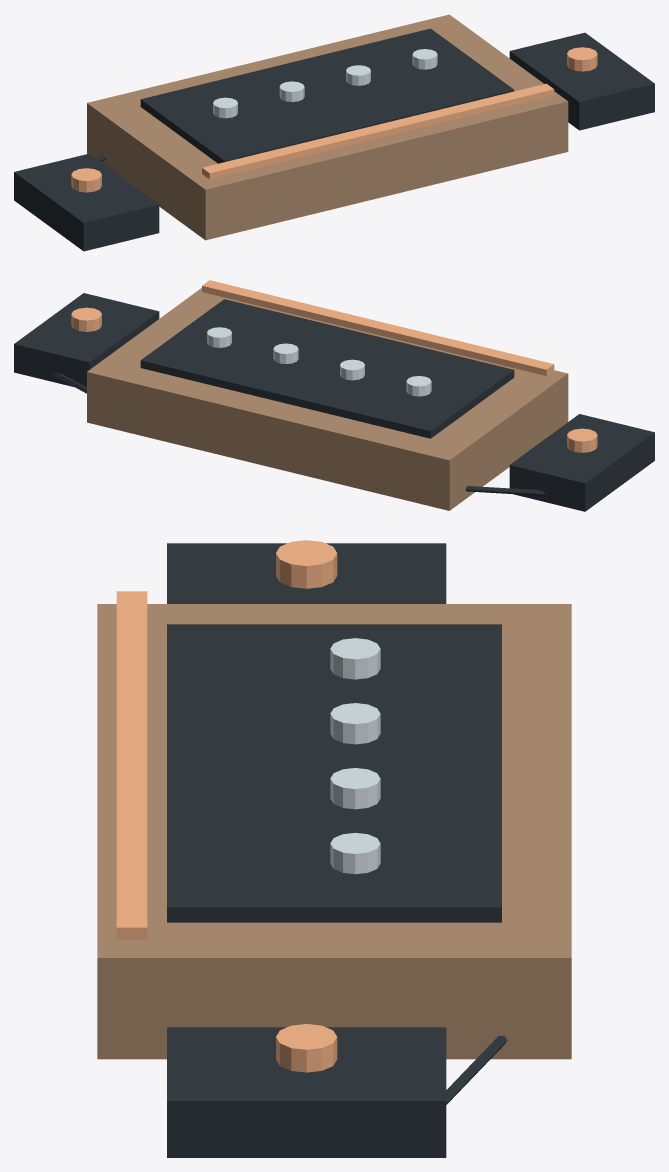
The model's file is early-console-lod0.glb.
3 renders of one model, top to bottom at view 1: azimuth 30°, elevation 25°; view 2: azimuth 150°, elevation 25°; view 3: azimuth 270°, elevation 25°, orthographic. The views are drawn at different scales.
Visible parts, largest first — view 1: console, top_panel, paddle_0, paddle_1, stripe, paddle_knob_1, paddle_knob_0, knob_3, knob_1, knob_2, knob_0; view 2: console, top_panel, paddle_0, paddle_1, stripe, paddle_knob_0, paddle_knob_1, paddle_cable_0, knob_0, knob_2, knob_3, knob_1; view 3: console, top_panel, paddle_1, paddle_0, stripe, paddle_knob_0, paddle_knob_1, knob_0, knob_1, knob_2, knob_3, paddle_cable_1.
Boxes of the visible parts, x1,y1,x2,y2 form: console: [87, 14, 568, 240]; top_panel: [140, 28, 514, 163]; paddle_0: [14, 153, 159, 251]; paddle_1: [509, 32, 654, 130]; stripe: [202, 83, 554, 179]; paddle_knob_1: [567, 47, 597, 71]; paddle_knob_0: [71, 168, 101, 192]; knob_3: [412, 49, 437, 69]; knob_1: [279, 81, 304, 101]; knob_2: [346, 65, 370, 85]; knob_0: [213, 97, 237, 118]; console: [87, 288, 568, 510]; top_panel: [140, 299, 514, 438]; paddle_0: [509, 414, 654, 511]; paddle_1: [14, 293, 159, 387]; stripe: [202, 280, 554, 375]; paddle_knob_0: [567, 428, 597, 452]; paddle_knob_1: [71, 307, 101, 331]; paddle_cable_0: [465, 486, 545, 495]; knob_0: [406, 376, 431, 396]; knob_2: [273, 343, 298, 363]; knob_3: [207, 327, 231, 347]; knob_1: [340, 359, 364, 380]; console: [97, 604, 571, 1059]; top_panel: [167, 624, 501, 922]; paddle_1: [167, 1027, 446, 1157]; paddle_0: [167, 543, 446, 603]; stripe: [116, 591, 147, 940]; paddle_knob_0: [276, 540, 337, 588]; paddle_knob_1: [276, 1024, 337, 1072]; knob_0: [330, 638, 380, 679]; knob_1: [330, 703, 380, 744]; knob_2: [330, 768, 380, 809]; knob_3: [330, 832, 380, 874]; paddle_cable_1: [446, 1036, 507, 1104].
Bounding box in the file's own units: 9.45 × 1.1 × 3.4.
